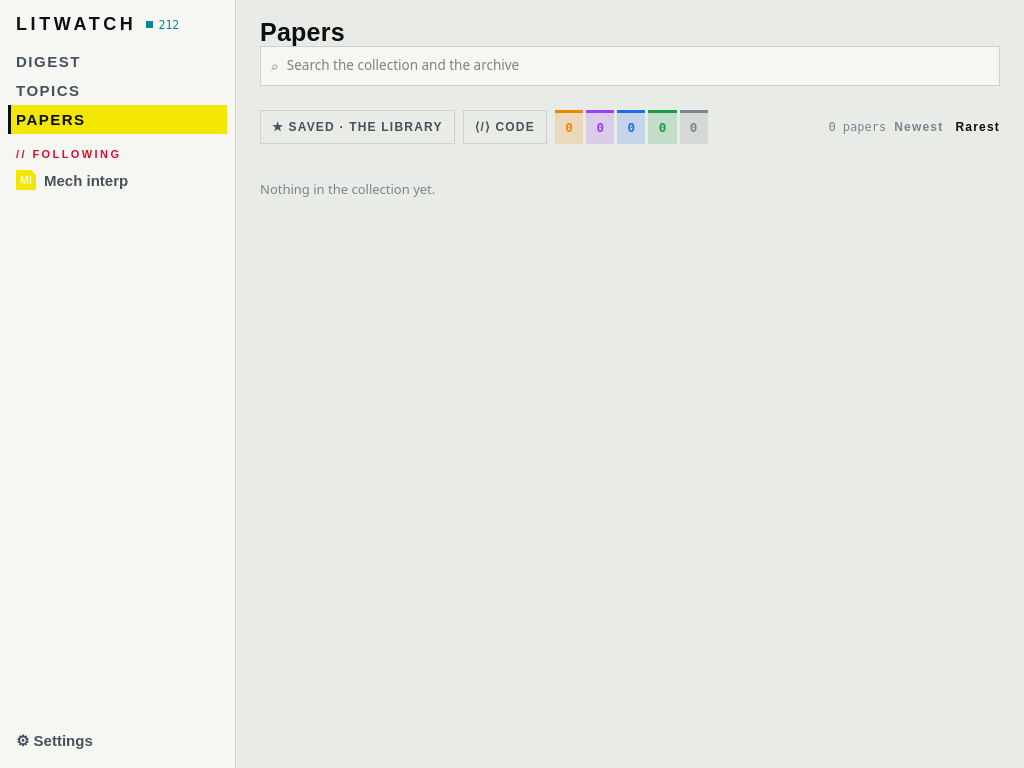
Test case: The shell's sidebar › mounts the desktop's column anew on each navigation, so its arrival plays again from the same side
This screenshot has width=1024, height=768.
Check: the text "Papers" is shown, box [260,18,345,46]
Click the link "MI Mech interp" at (72, 180), box [16,170,128,190]
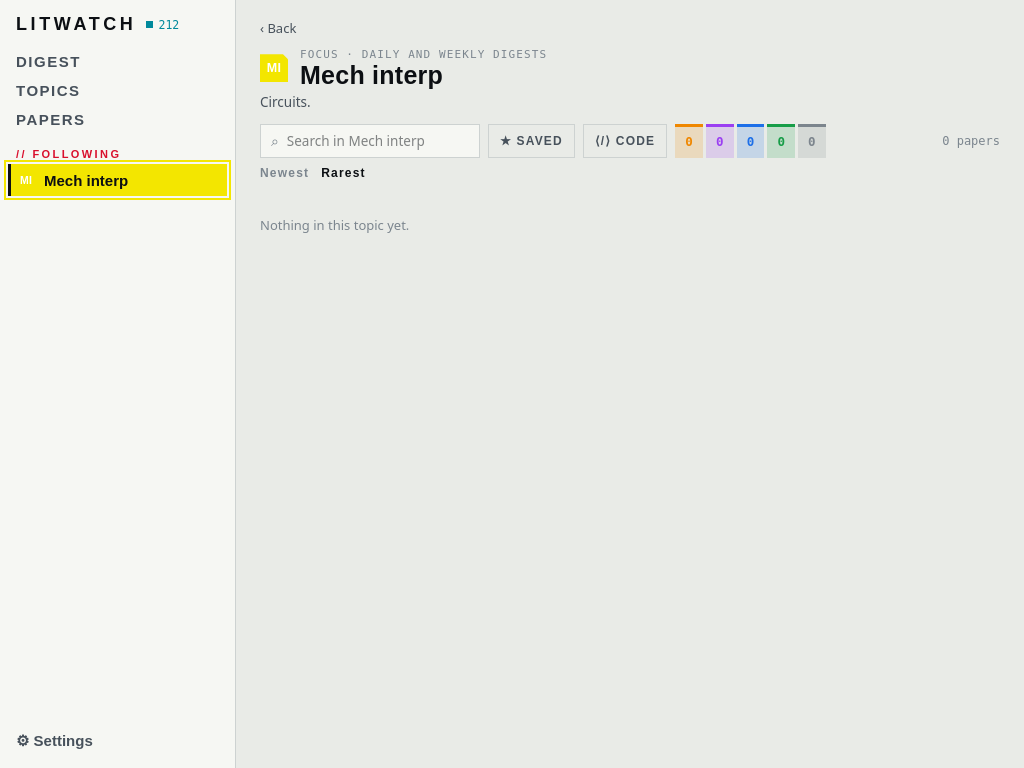
Check: the text "Mech interp" below "focus" is shown, box [300,61,443,89]
